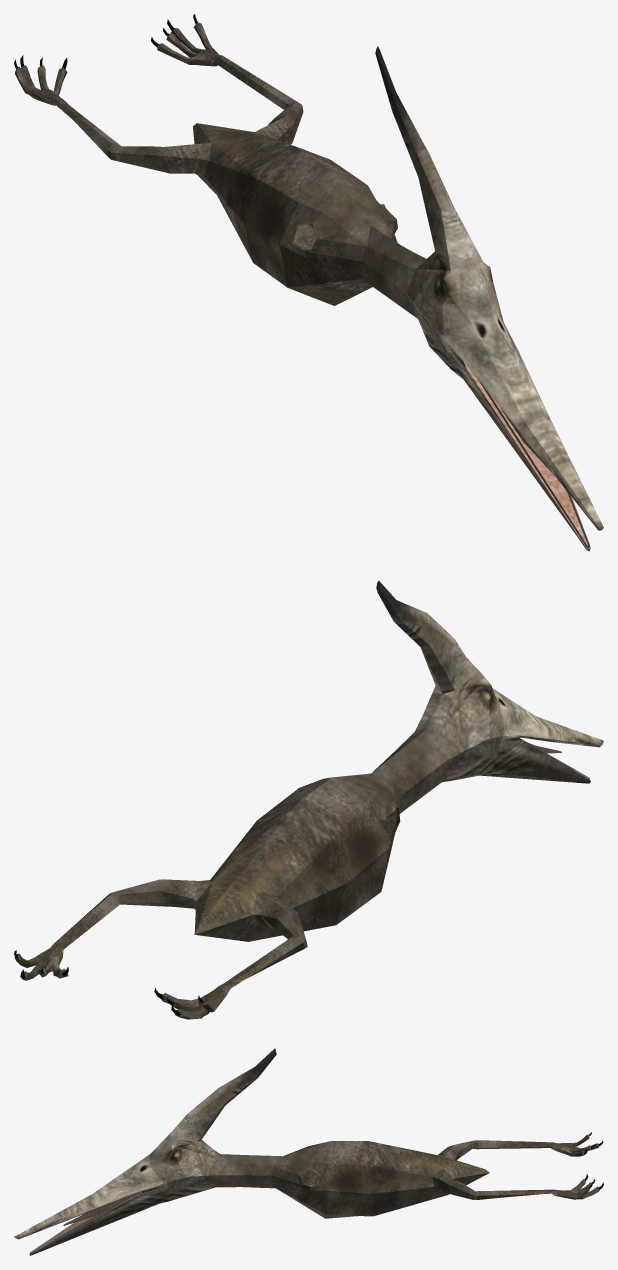
Rendered from pteroCu.obj.
3 views of the same model, one above another, from view 1: azimuth 30°, elevation 25°; view 2: azimuth 150°, elevation 25°; view 3: azimuth 270°, elevation 25° (orthographic). The views are drawn at different scales.
Visible parts, largest first — view 1: ptero:corpo1corpo; view 2: ptero:corpo1corpo; view 3: ptero:corpo1corpo.
Boxes of the visible parts, x1,y1,x2,y2 form: ptero:corpo1corpo: (14, 14, 603, 551); ptero:corpo1corpo: (14, 580, 603, 1019); ptero:corpo1corpo: (14, 1048, 603, 1255).
Size of the model in its own units: 0.7096 by 1.24 by 3.2.
Materials: 1 (1 with a texture image).
